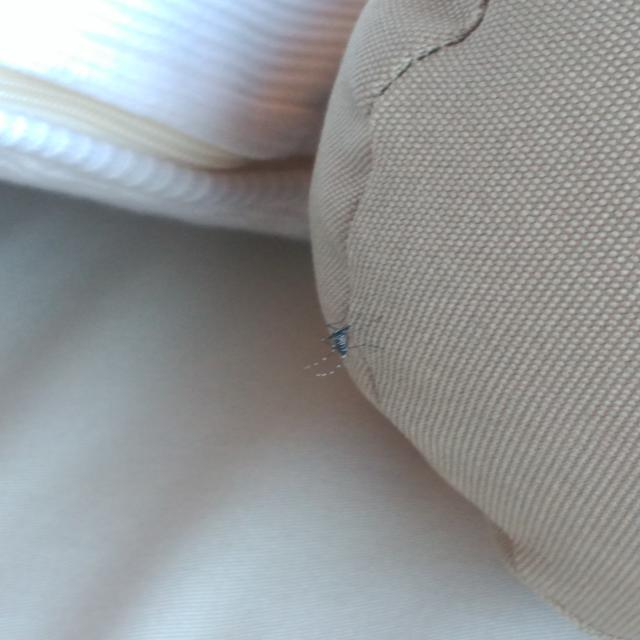albopictus: (293, 308, 376, 381)
